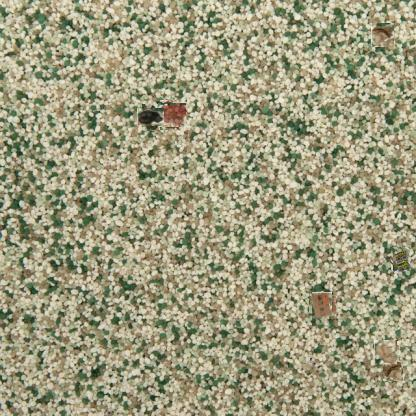dirty: (374, 340, 398, 365), (311, 294, 334, 318), (371, 23, 394, 47), (392, 247, 412, 272), (383, 362, 403, 382)
liquid: (159, 102, 186, 128), (140, 106, 162, 129)
